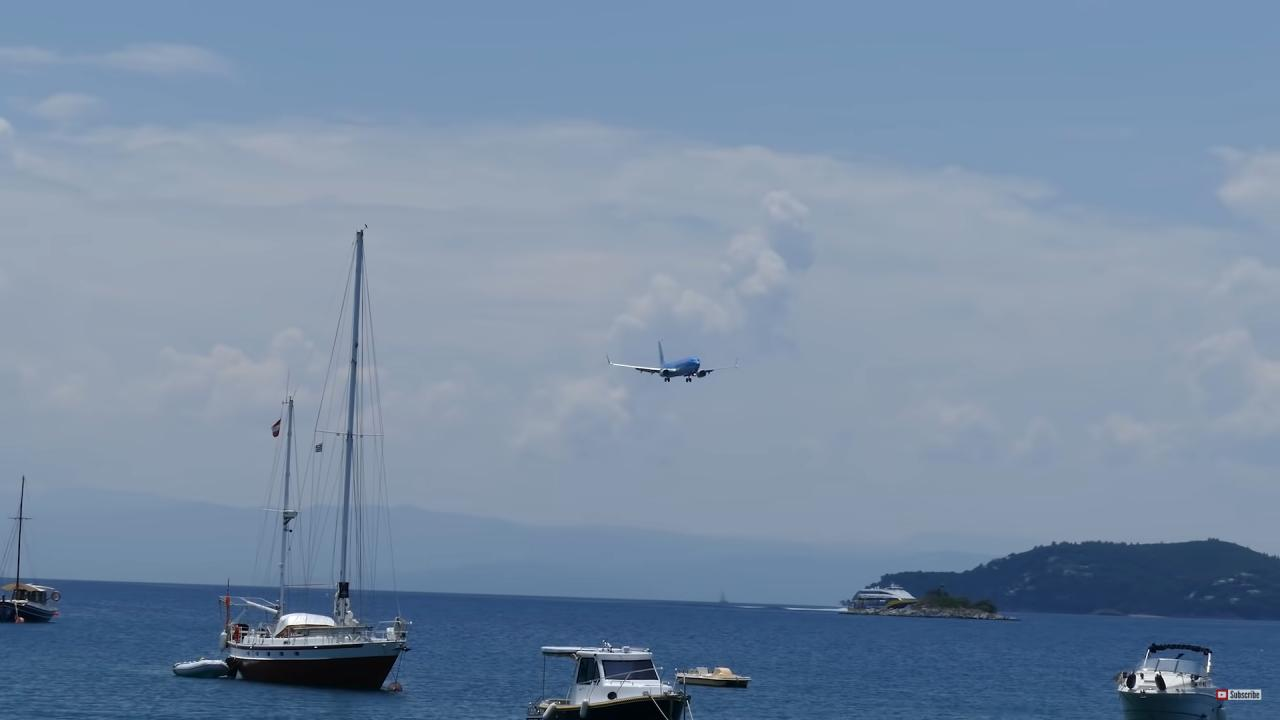Airplane: (595, 332, 735, 393)
